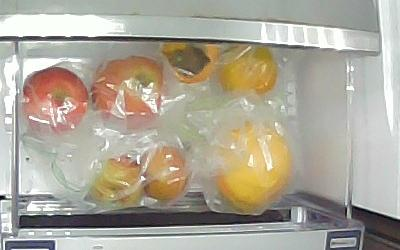apple_vinyl: (91, 56, 169, 132), (24, 68, 88, 137)
grapefruit_vinyl: (211, 122, 289, 213)
persimmon_vinyl: (218, 45, 278, 95), (160, 42, 218, 85)
prune_vinyl: (88, 154, 145, 210), (141, 144, 189, 200)
